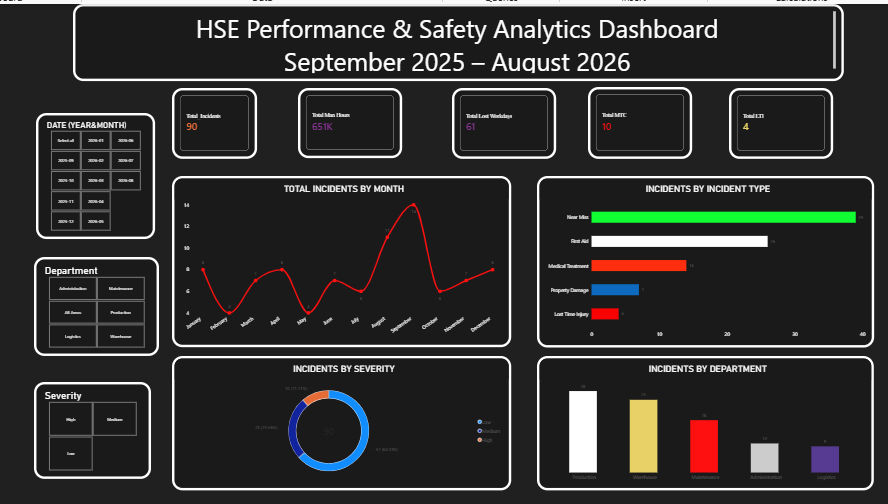

This screenshot's page, from the dashboard's own definition file:
{"tool":"powerbi","page":{"name":"EXECUTIVE HSE OVERRVIEW","canvas":[2560,1440],"ordinal":0},"visuals":[{"type":"cardVisual","fields":{"Data":["Dim_Department.Total_Incidents"]},"box":[498.2,241.9,244.8,204.5],"z":0},{"type":"lineChart","title":"TOTAL INCIDENTS BY MONTH","fields":{"Category":["HSE_Incident_Register.Date.Variation.Date Hierarchy.Month"],"Y":["Dim_Department.Total_Incidents"]},"box":[498.2,495.4,976.7,493.3],"z":1000},{"type":"textbox","box":[213.1,0,2220.5,221.8],"z":2000},{"type":"donutChart","title":"INCIDENTS BY SEVERITY","fields":{"Category":["HSE_Incident_Register.Severity"],"Y":["CountNonNull(HSE_Incident_Register.Incident_ID)"]},"box":[498.2,1013.8,976.7,386.7],"z":3000},{"type":"clusteredColumnChart","title":"INCIDENTS BY DEPARTMENT","fields":{"Category":["Dim_Department.Department"],"Y":["Dim_Department.Total_Incidents"]},"box":[1549.4,1013.8,970,386.7],"z":4000},{"type":"clusteredBarChart","title":"INCIDENTS BY INCIDENT TYPE","fields":{"Category":["HSE_Incident_Register.Incident_Type"],"Y":["CountNonNull(HSE_Incident_Register.Incident_ID)"]},"box":[1549.4,495.4,970.9,493.9],"z":5000},{"type":"cardVisual","fields":{"Data":["Dim_Department.Total Man Hours"]},"box":[861.1,241.9,299.5,201.6],"z":6000},{"type":"cardVisual","fields":{"Data":["Dim_Department.Total Lost Workdays"]},"box":[1304.6,241.9,299.5,204.5],"z":7000},{"type":"cardVisual","fields":{"Data":["Dim_Department.Total MTC"]},"box":[1696.3,239,299.5,207.4],"z":8000},{"type":"cardVisual","fields":{"Data":["Dim_Department.Total LTI"]},"box":[2102.4,241.9,299.5,204.5],"z":9000},{"type":"slicer","fields":{"Values":["Dim_Month.Year_Month"]},"box":[106.7,313.3,342.7,362.9],"z":10000},{"type":"slicer","fields":{"Values":["Dim_Department.Department"]},"box":[100.8,728.6,360,285.1],"z":11000},{"type":"slicer","fields":{"Values":["HSE_Incident_Register.Severity"]},"box":[100.8,1088.6,337,279.4],"z":12000}]}

Visuals, with their boxes in screenshot pixels (x1, y1, x2, y2):
cardVisual - Dim_Department.Total_Incidents: <region>173, 87, 256, 157</region>
"TOTAL INCIDENTS BY MONTH" lineChart: <region>173, 174, 507, 343</region>
textbox: <region>75, 5, 835, 80</region>
"INCIDENTS BY SEVERITY" donutChart: <region>173, 351, 507, 484</region>
"INCIDENTS BY DEPARTMENT" clusteredColumnChart: <region>532, 351, 864, 484</region>
"INCIDENTS BY INCIDENT TYPE" clusteredBarChart: <region>532, 174, 864, 343</region>
cardVisual - Dim_Department.Total Man Hours: <region>297, 87, 399, 156</region>
cardVisual - Dim_Department.Total Lost Workdays: <region>449, 87, 551, 157</region>
cardVisual - Dim_Department.Total MTC: <region>583, 86, 685, 157</region>
cardVisual - Dim_Department.Total LTI: <region>721, 87, 824, 157</region>
slicer - Dim_Month.Year_Month: <region>39, 112, 156, 236</region>
slicer - Dim_Department.Department: <region>37, 254, 160, 351</region>
slicer - HSE_Incident_Register.Severity: <region>37, 377, 152, 473</region>
